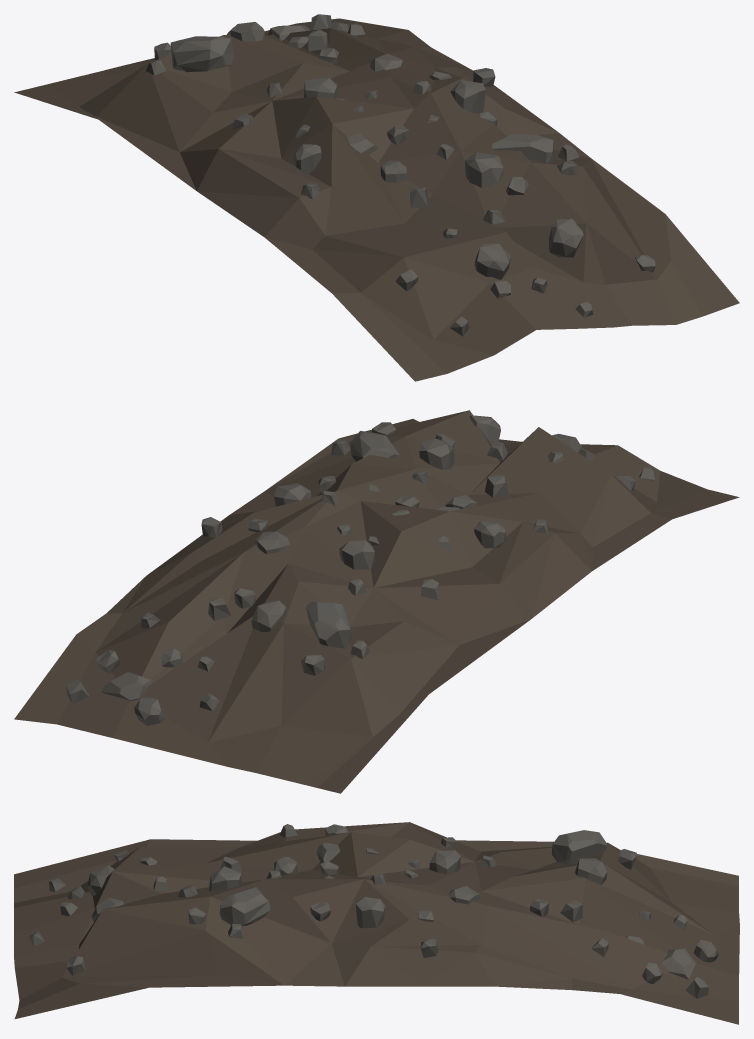
Rendered from mud pile.fbx.
3 views of the same model, one above another, from view 1: azimuth 30°, elevation 25°; view 2: azimuth 150°, elevation 25°; view 3: azimuth 270°, elevation 25° (orthographic). The views are drawn at different scales.
Visible parts, largest first — view 1: SM_Veh_Truck_01_DumpsterTray_Dumpster; view 2: SM_Veh_Truck_01_DumpsterTray_Dumpster; view 3: SM_Veh_Truck_01_DumpsterTray_Dumpster.
Part boxes in pixels (bbox=[...]): SM_Veh_Truck_01_DumpsterTray_Dumpster: bbox=[14, 14, 739, 381]; SM_Veh_Truck_01_DumpsterTray_Dumpster: bbox=[14, 410, 739, 793]; SM_Veh_Truck_01_DumpsterTray_Dumpster: bbox=[14, 822, 739, 1024].
Bounding box in the file's own units: 203 × 64.34 × 419.
1 material, 1 textured.
